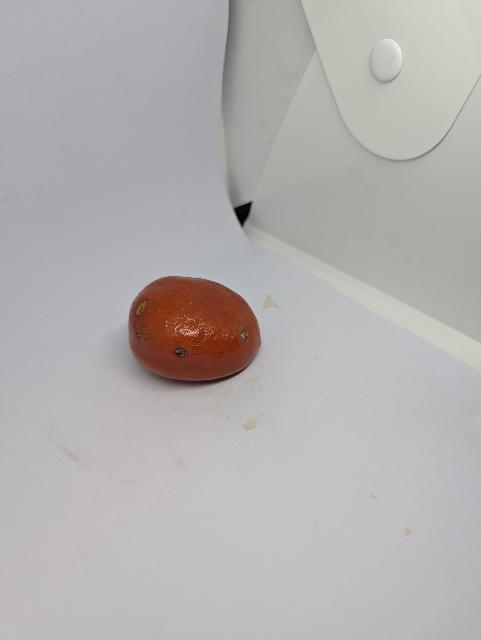defect: (126, 275, 265, 384)
